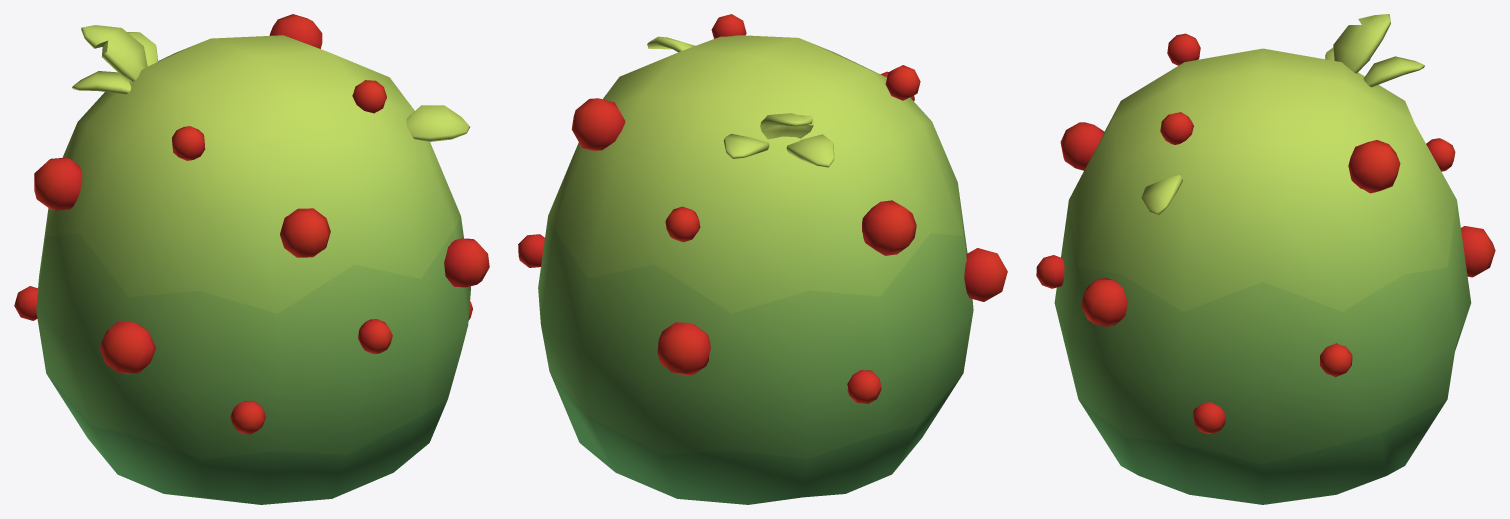
Rendered from tree_3.fbx.
The picture shows the model from 3 angles, left to right: view 1: azimuth 30°, elevation 25°; view 2: azimuth 150°, elevation 25°; view 3: azimuth 270°, elevation 25°; orthographic projection. The views are drawn at different scales.
Parts seen in each view (by area): view 1: tree_3; view 2: tree_3; view 3: tree_3.
Part boxes in pixels (box(x1,y1,x2,y2)): tree_3: box(14, 14, 489, 504); tree_3: box(518, 14, 1007, 504); tree_3: box(1036, 14, 1495, 504).
Size of the model in its own units: 1.38 by 1.35 by 1.44.
Materials: 1 (1 with a texture image).
